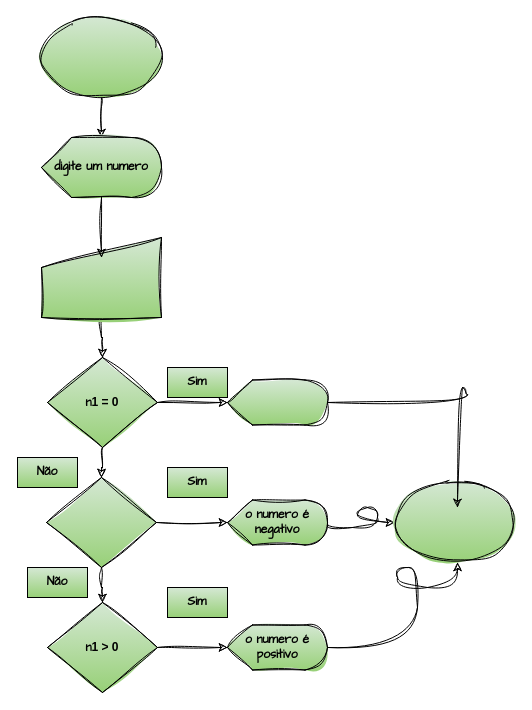
Some shapes in this 532 by 710 pixel diagram are drawn without their labels. The shapes that lost their labels are listed below. From the top down, each one's centre as x and y in pixels, then its label:
At point 101,57: "inicio".
At point 101,277: "n 1".
At point 277,402: "o numero é 0".
At point 101,522: "n 1 < 0".
At point 454,522: "FIM".
